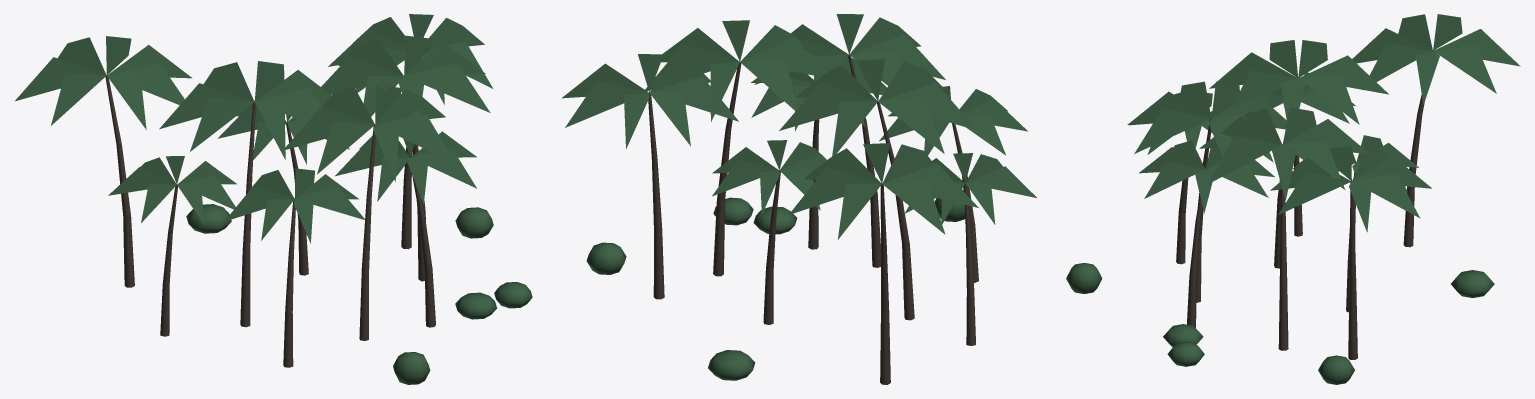
Rendered from world_site_equatorial_palms.fbx.
3 views of the same model, side by side, from view 1: azimuth 30°, elevation 25°; view 2: azimuth 150°, elevation 25°; view 3: azimuth 270°, elevation 25° (orthographic). The views are drawn at different scales.
Visible parts, largest first — view 1: world_site_equatorial_palms_LOD0; view 2: world_site_equatorial_palms_LOD0; view 3: world_site_equatorial_palms_LOD0.
Part boxes in pixels (x1=…): world_site_equatorial_palms_LOD0: x1=15, y1=14, x2=532, y2=384; world_site_equatorial_palms_LOD0: x1=562, y1=14, x2=1037, y2=384; world_site_equatorial_palms_LOD0: x1=1066, y1=14, x2=1520, y2=384.
Size of what is drawn, in the model's own units: 27.86 by 14.49 by 27.92.
